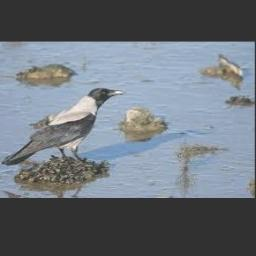Crow: (1, 87, 127, 166)
